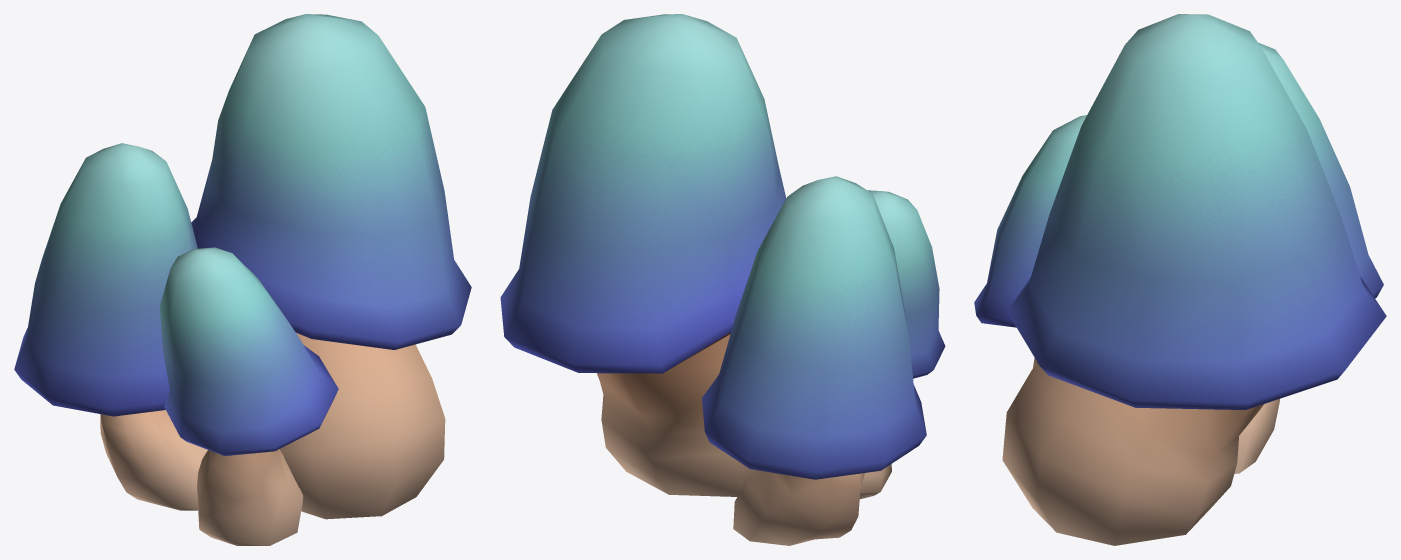
File: Shrooms1.fbx
3 views of the same model, side by side, from view 1: azimuth 30°, elevation 25°; view 2: azimuth 150°, elevation 25°; view 3: azimuth 270°, elevation 25° (orthographic). The views are drawn at different scales.
Parts seen in each view (by area): view 1: BezierCurve.003; view 2: BezierCurve.003; view 3: BezierCurve.003.
Part boxes in pixels (left/top/right/bottom): BezierCurve.003: left=14, top=14, right=471, bottom=545; BezierCurve.003: left=500, top=14, right=945, bottom=545; BezierCurve.003: left=974, top=14, right=1386, bottom=545.
Bounding box in the file's own units: 198 × 218 × 164.
